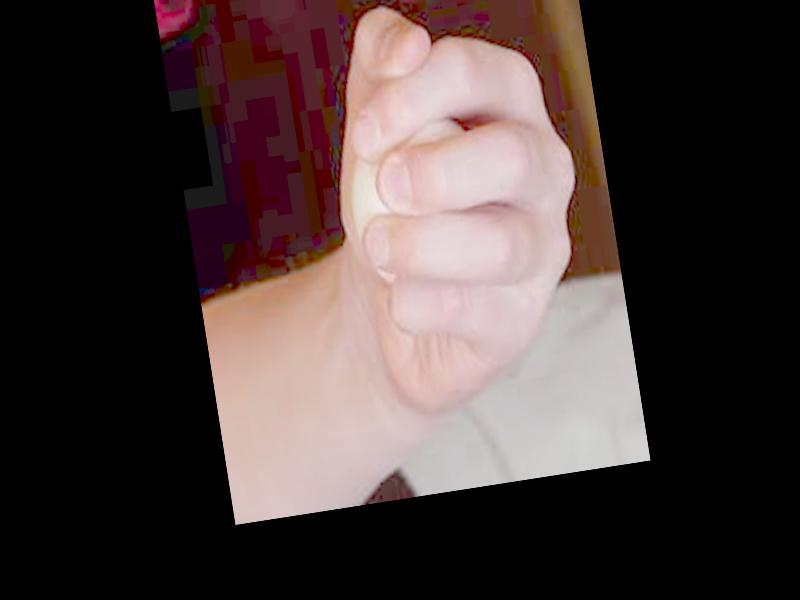Eggs: (336, 96, 486, 288)
